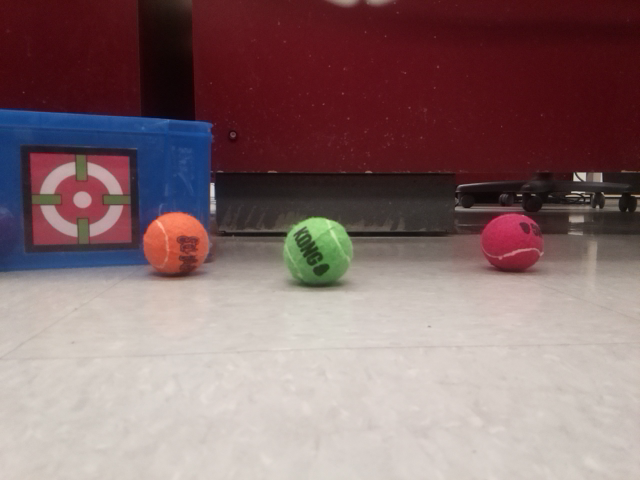drop-bin: (19, 143, 142, 253)
green-ball: (281, 215, 354, 288)
orange-ball: (141, 210, 210, 278)
red-ball: (479, 212, 546, 274)
